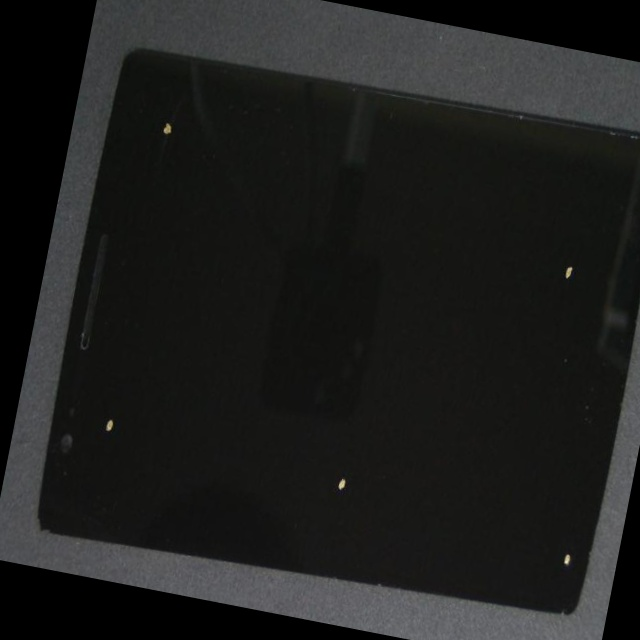stain: (119, 247, 540, 640), (278, 240, 640, 640), (318, 91, 640, 362), (2, 218, 191, 584), (114, 0, 225, 189)
